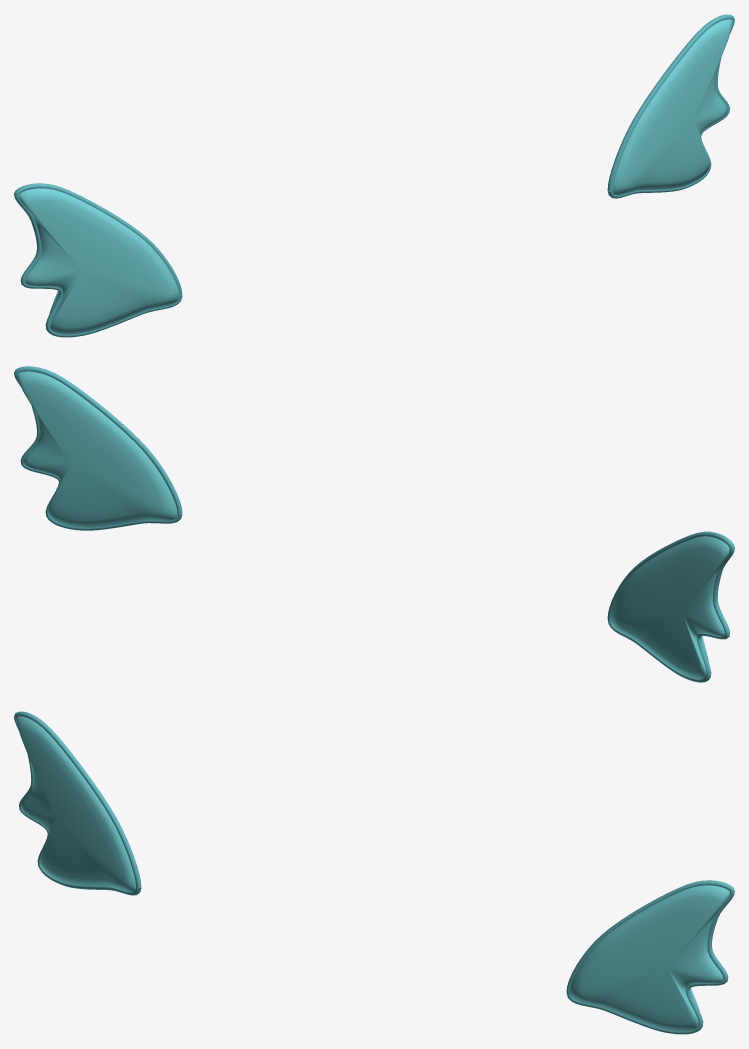
Rendered from ocean-fin.glb.
The picture shows the model from 3 angles, top to bottom: view 1: azimuth 30°, elevation 25°; view 2: azimuth 150°, elevation 25°; view 3: azimuth 330°, elevation 25°; orthographic projection.
Visible parts, largest first — view 1: fin_left_membrane, fin_right_membrane, fin_left_rim, fin_right_rim; view 2: fin_right_membrane, fin_left_membrane, fin_right_rim, fin_left_rim; view 3: fin_right_membrane, fin_left_membrane, fin_right_rim, fin_left_rim.
Boxes of the visible parts, <box> form: fin_left_membrane: <box>19,188,179,334</box>; fin_right_membrane: <box>609,19,732,195</box>; fin_left_rim: <box>14,183,182,337</box>; fin_right_rim: <box>607,14,734,198</box>; fin_right_membrane: <box>16,371,179,527</box>; fin_left_membrane: <box>610,536,729,679</box>; fin_right_rim: <box>14,366,182,530</box>; fin_left_rim: <box>607,531,734,682</box>; fin_right_membrane: <box>569,885,729,1031</box>; fin_left_membrane: <box>16,716,139,892</box>; fin_right_rim: <box>566,880,734,1034</box>; fin_left_rim: <box>14,711,141,895</box>.
Bounding box in the file's own units: 2.64 × 0.5531 × 0.1525.
